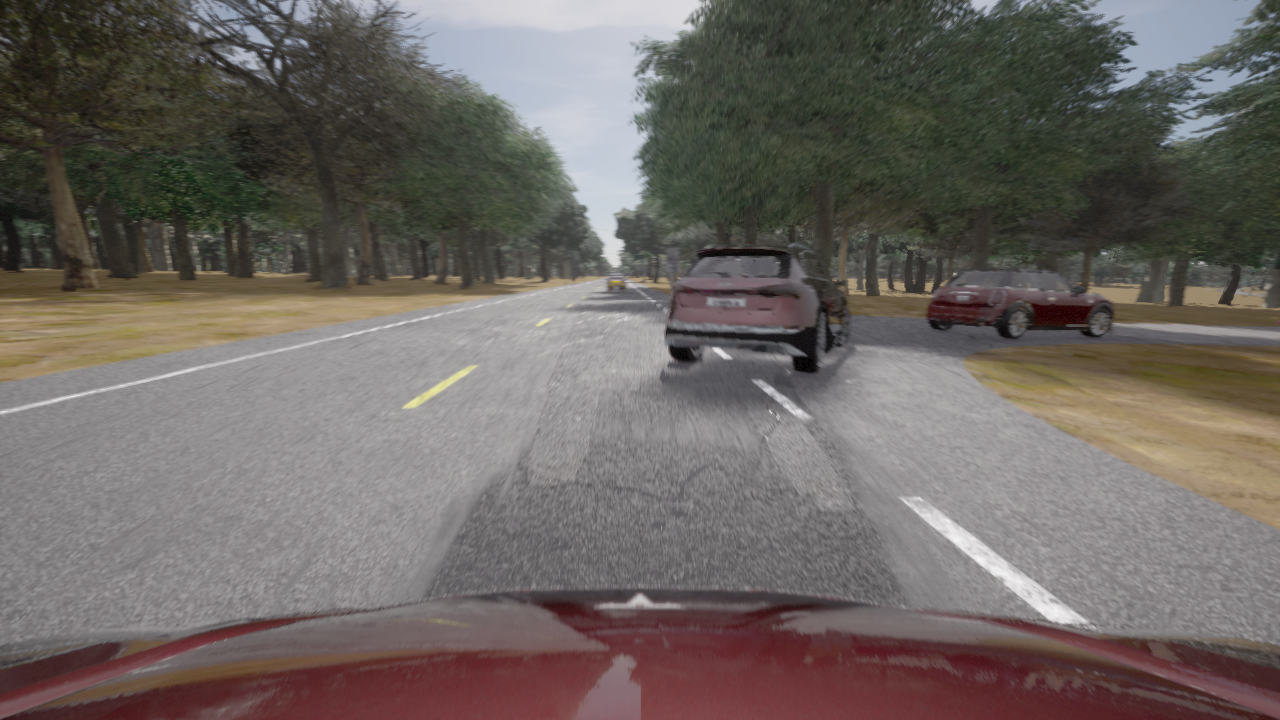cyclist: (0, 588, 1279, 719), (665, 240, 849, 373), (927, 267, 1113, 339), (606, 273, 626, 292), (1277, 321, 1279, 324)
